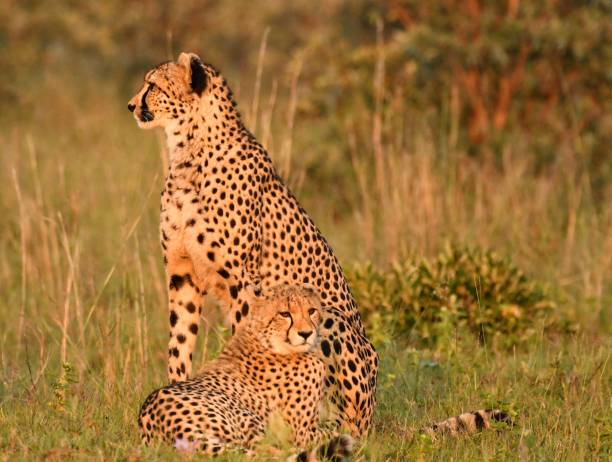cheetah: (117, 44, 235, 136)
